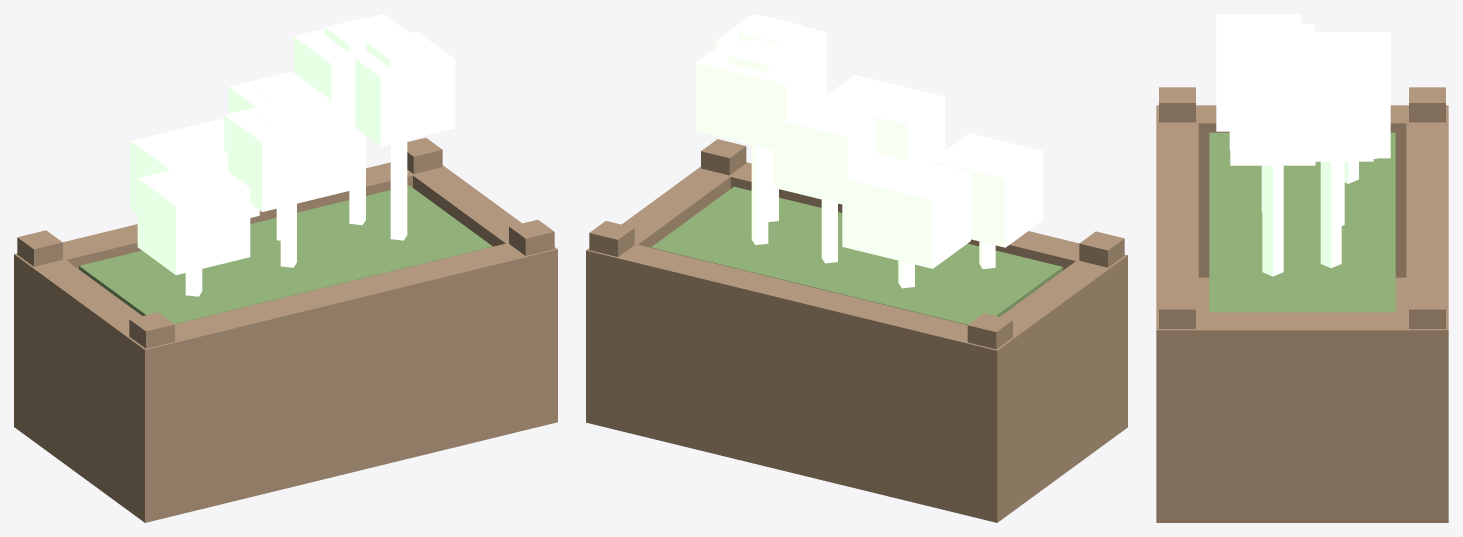
Rendered from SM_Planter_B.fbx.
3 views of the same model, side by side, from view 1: azimuth 30°, elevation 25°; view 2: azimuth 150°, elevation 25°; view 3: azimuth 270°, elevation 25° (orthographic). The views are drawn at different scales.
Visible parts, largest first — view 1: SM_Planter_B; view 2: SM_Planter_B; view 3: SM_Planter_B.
Part boxes in pixels (bbox=[...]): SM_Planter_B: bbox=[14, 14, 557, 522]; SM_Planter_B: bbox=[586, 14, 1127, 522]; SM_Planter_B: bbox=[1156, 14, 1448, 522].
Size of the model in its own units: 0.55 by 1 by 0.8415.
